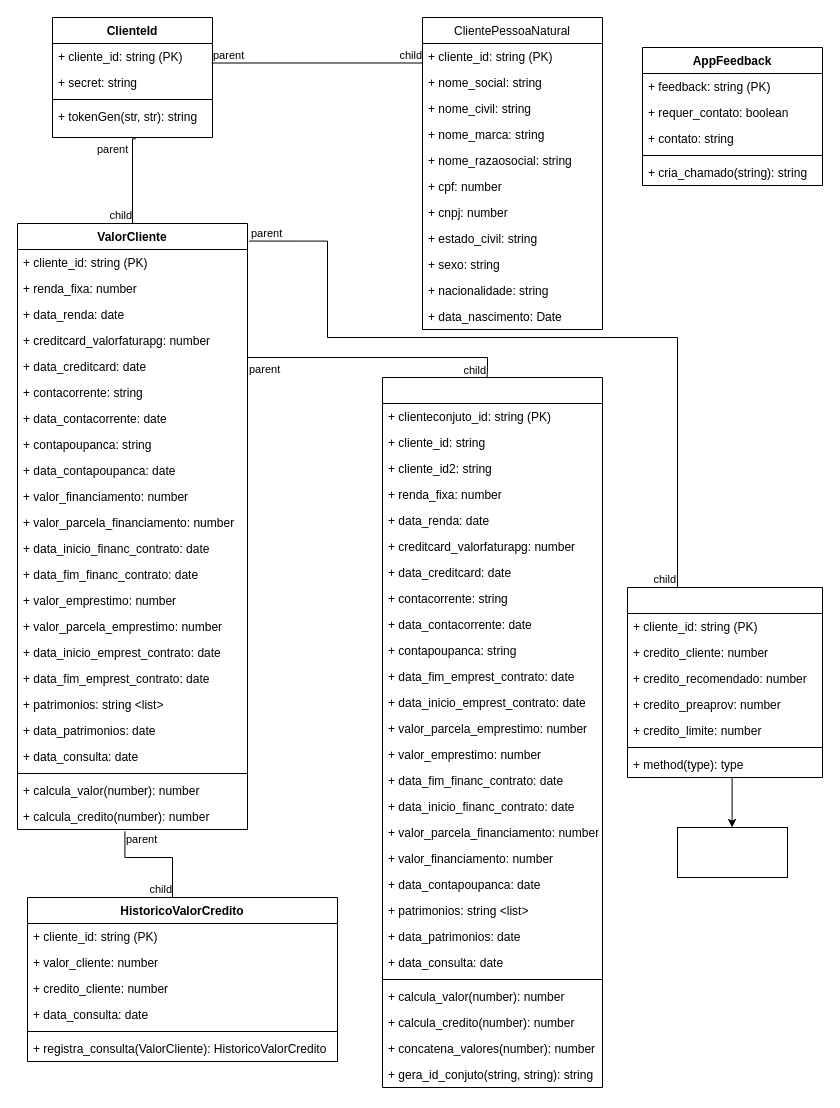
Some shapes in this 840 by 1108 pixel diagram are drawn without their labels. Here are the shapes that lost their labels. From the top down, the box of each, then its label:
(626, 586, 822, 778): PropostaCredito
(382, 376, 602, 1088): ValorClienteConjunto
(676, 826, 788, 878): «interface» Proposta Credito
